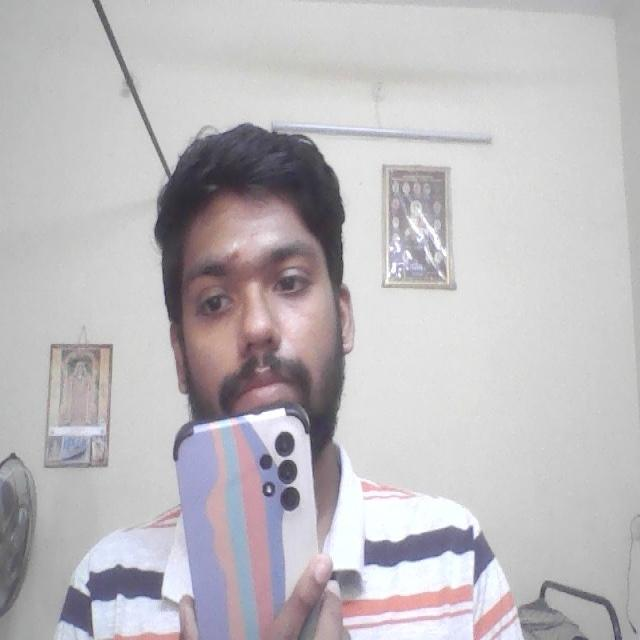Mobile: (176, 406, 319, 636)
